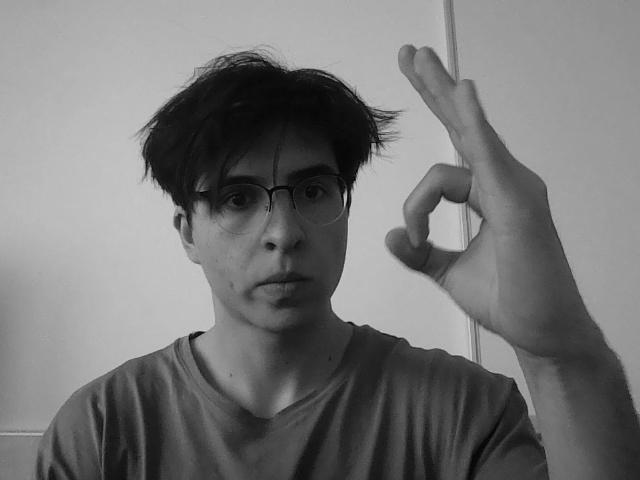OK: (382, 46, 599, 342)
